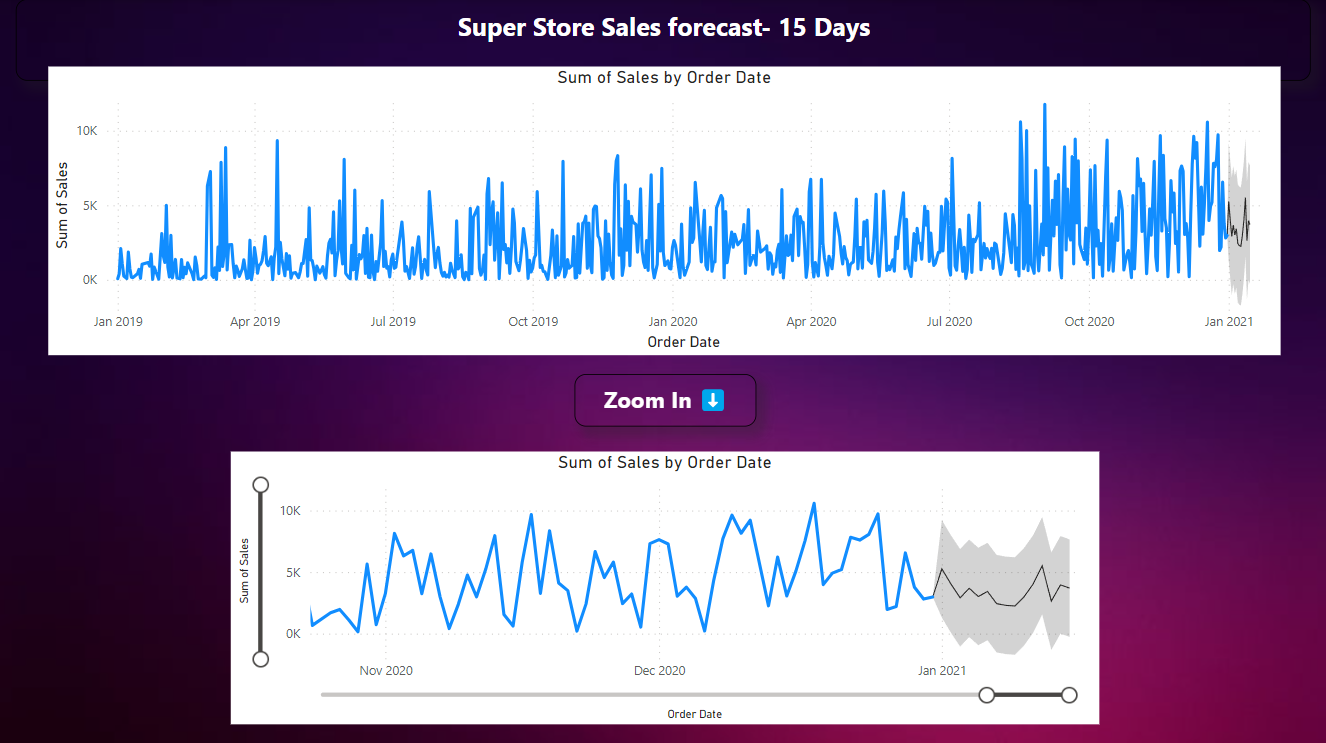

This screenshot's page, from the dashboard's own definition file:
{"tool":"powerbi","page":{"name":"Page 2","canvas":[1280,720],"ordinal":1},"visuals":[{"type":"textbox","box":[18.6,0,1241.4,78.6],"z":0},{"type":"lineChart","fields":{"Y":["Sum(Store Data.Sales)"],"Category":["Store Data.Order Date"]},"box":[48.6,64.3,1181.4,277.1],"z":1},{"type":"lineChart","fields":{"Y":["Sum(Store Data.Sales)"],"Category":["Store Data.Order Date"]},"box":[224.3,434.3,832.9,261.4],"z":2},{"type":"textbox","box":[554.3,360,174.3,50],"z":3}]}

Visuals, with their boxes in screenshot pixels (x1, y1, x2, y2), scaled from the page's 1280x720 canvas onto the 1326x743 screenshot:
textbox: crop(19, 0, 1305, 81)
lineChart - Sum(Store Data.Sales) x Store Data.Order Date: crop(50, 66, 1274, 352)
lineChart - Sum(Store Data.Sales) x Store Data.Order Date: crop(232, 448, 1095, 718)
textbox: crop(574, 372, 755, 423)
